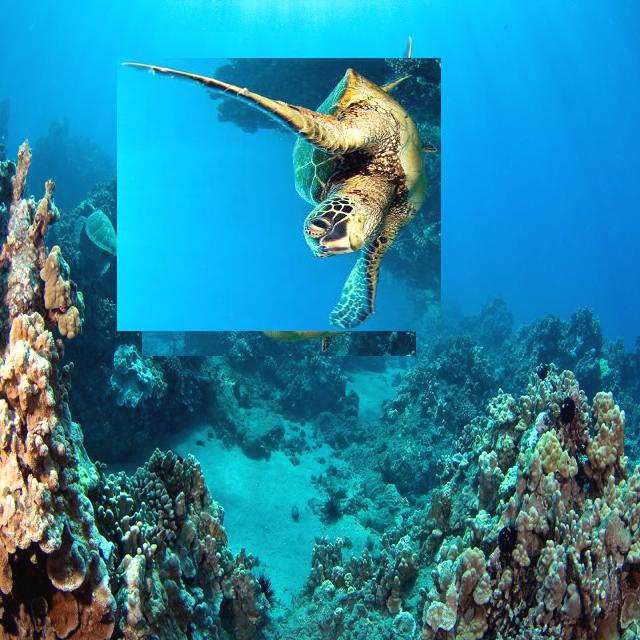Sea turtle: (130, 45, 428, 343)
